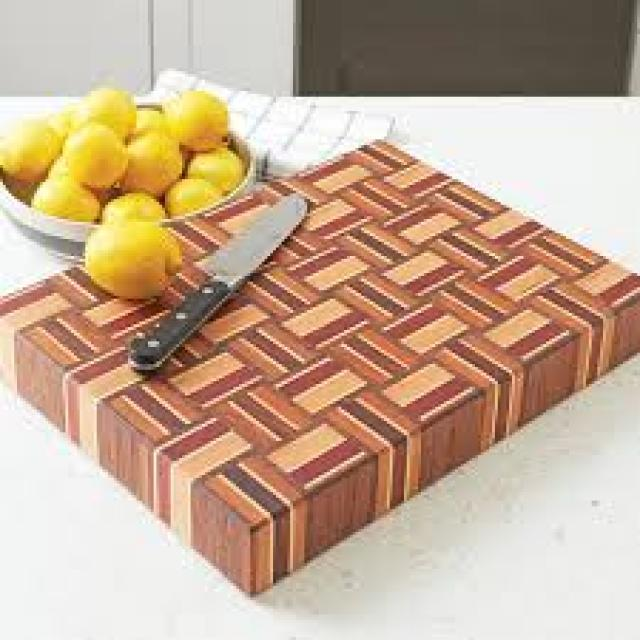Woods: (14, 142, 640, 597)
